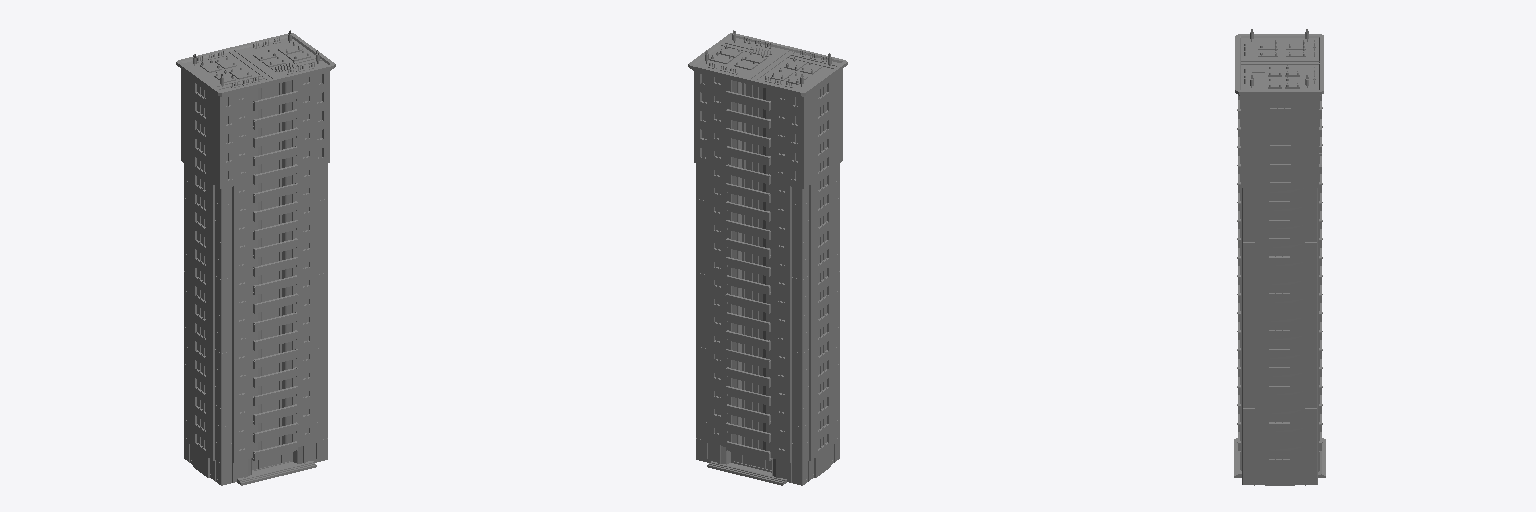
File: highbuilding.obj
3 renders of one model, left to right at view 1: azimuth 30°, elevation 25°; view 2: azimuth 150°, elevation 25°; view 3: azimuth 270°, elevation 25°, orthographic.
Visible parts, largest first — view 1: build53; view 2: build53; view 3: build53.
Boxes of the visible parts, x1=… form: build53: x1=176, y1=30, x2=335, y2=485; build53: x1=688, y1=30, x2=847, y2=485; build53: x1=1234, y1=29, x2=1325, y2=485.
Size of the model in its own units: 513775 by 1700355 by 347495.